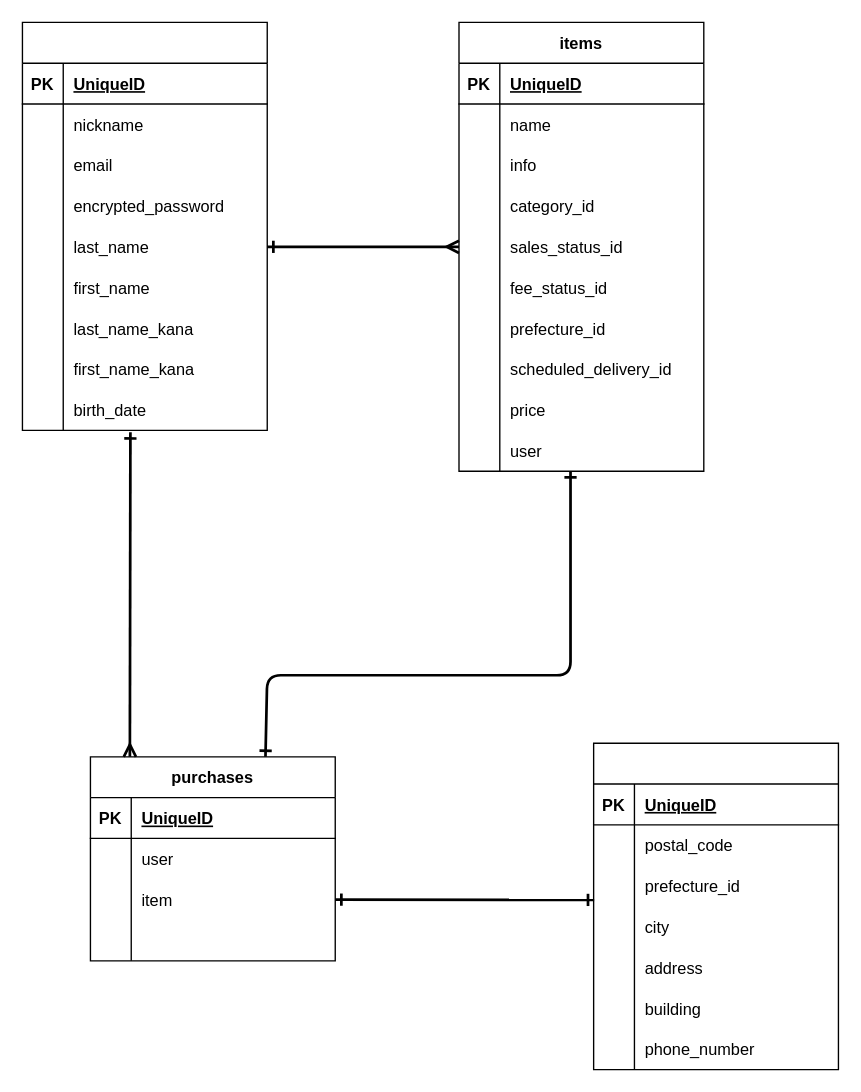
The diagram is 861 pixels wide and 1092 high, and some of its shapes have lost their labels. Here are the shapes that lost their labels. From the top down, the box of each, then its label:
(21, 21, 267, 430): users
(592, 742, 838, 1070): orders
